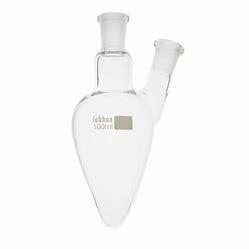Pear shaped flask: (56, 11, 189, 225)
